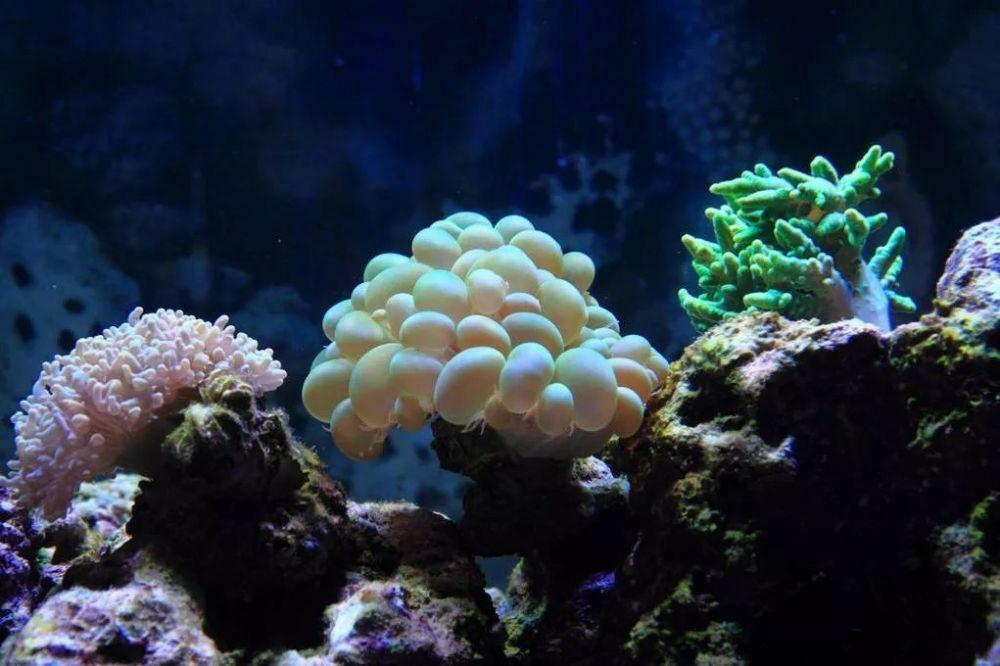bleached_corals: (302, 210, 671, 461), (0, 255, 290, 540)
